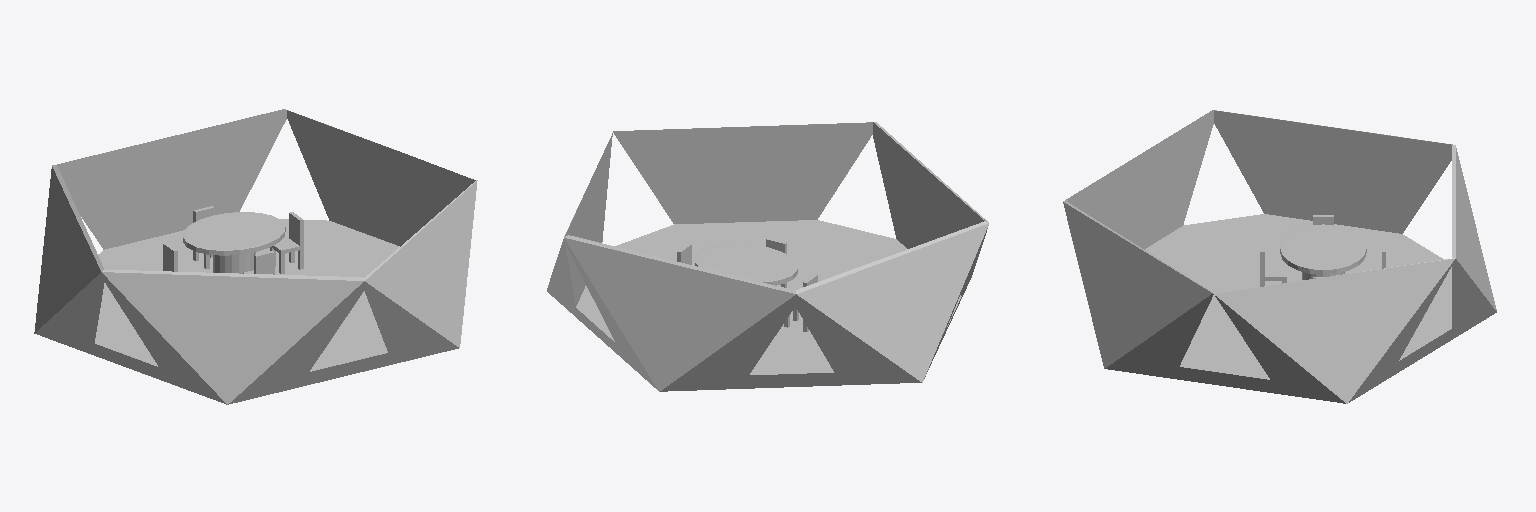
Rendered from houserotated.obj.
3 renders of one model, left to right at view 1: azimuth 30°, elevation 25°; view 2: azimuth 150°, elevation 25°; view 3: azimuth 270°, elevation 25°, orthographic.
Visible parts, largest first — view 1: obj_0; view 2: obj_0; view 3: obj_0.
Part boxes in pixels (left/top/right/bottom): obj_0: left=34, top=109, right=477, bottom=404; obj_0: left=547, top=122, right=988, bottom=391; obj_0: left=1063, top=110, right=1496, bottom=403.
Size of the model in its own units: 200 by 57.11 by 200.